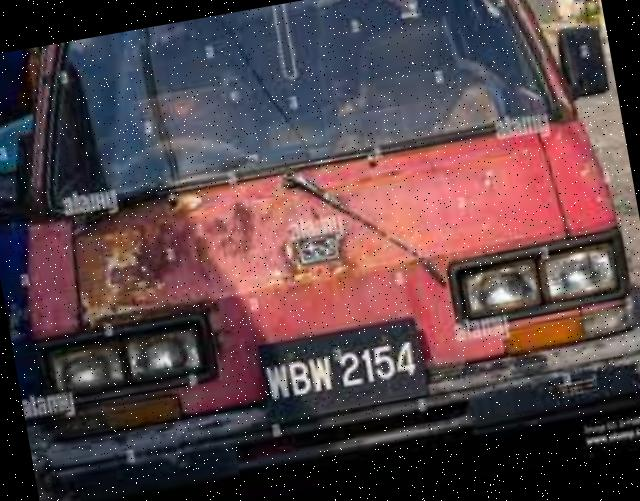License_Plate: (256, 314, 429, 426)
